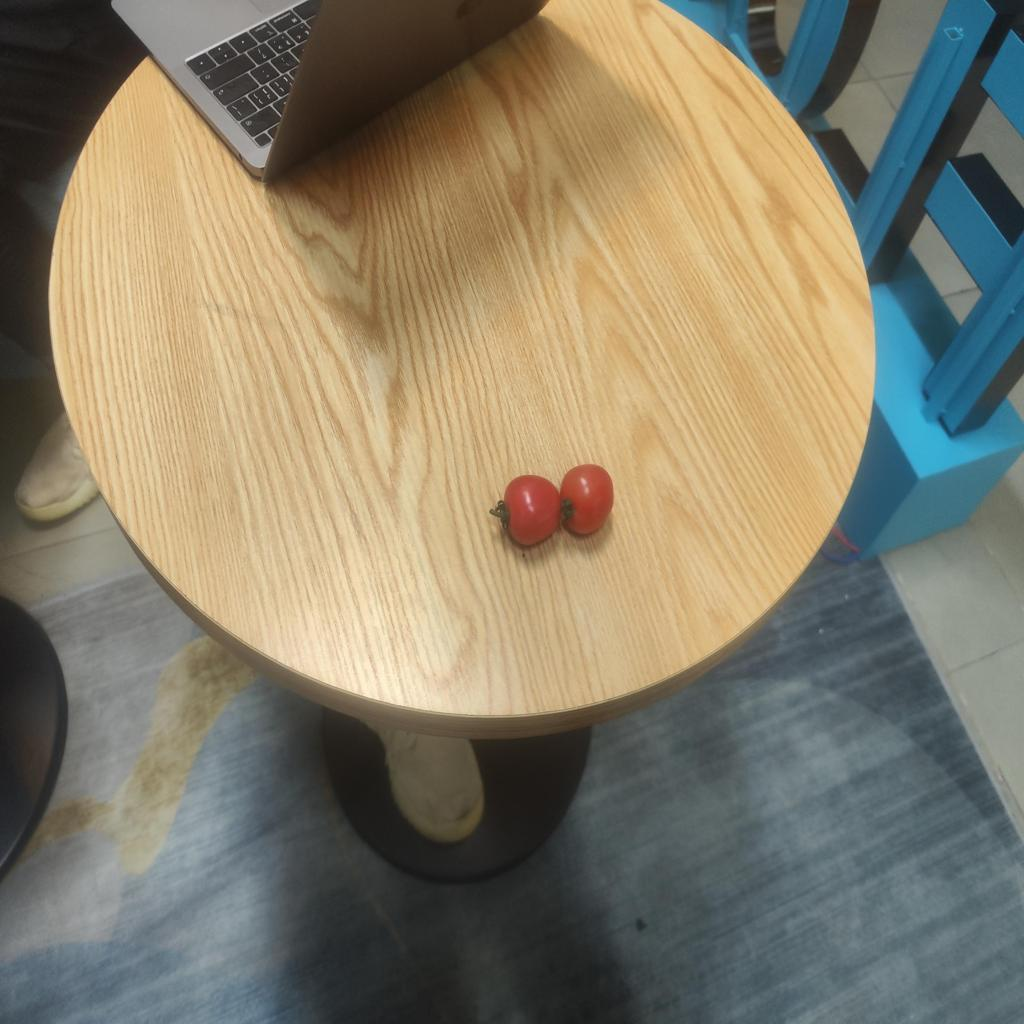tomato: (554, 456, 624, 540), (490, 470, 560, 547)
